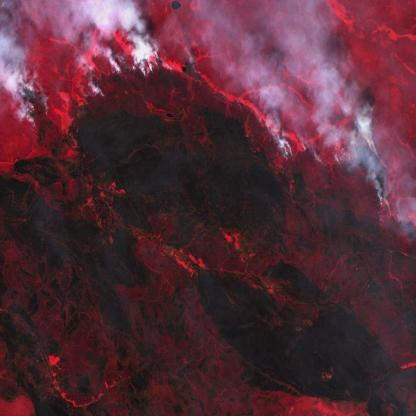fire: (12, 41, 204, 156), (266, 130, 416, 246)
